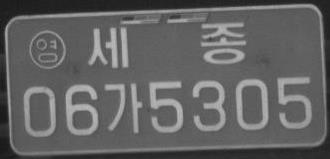0: (22, 85, 57, 137), (234, 78, 269, 130)
3: (192, 79, 226, 132)
5: (147, 80, 184, 134), (276, 75, 312, 130)
6: (65, 84, 98, 136)
가: (103, 82, 142, 133)
세종_D: (87, 20, 246, 69)
영: (28, 28, 66, 70)
